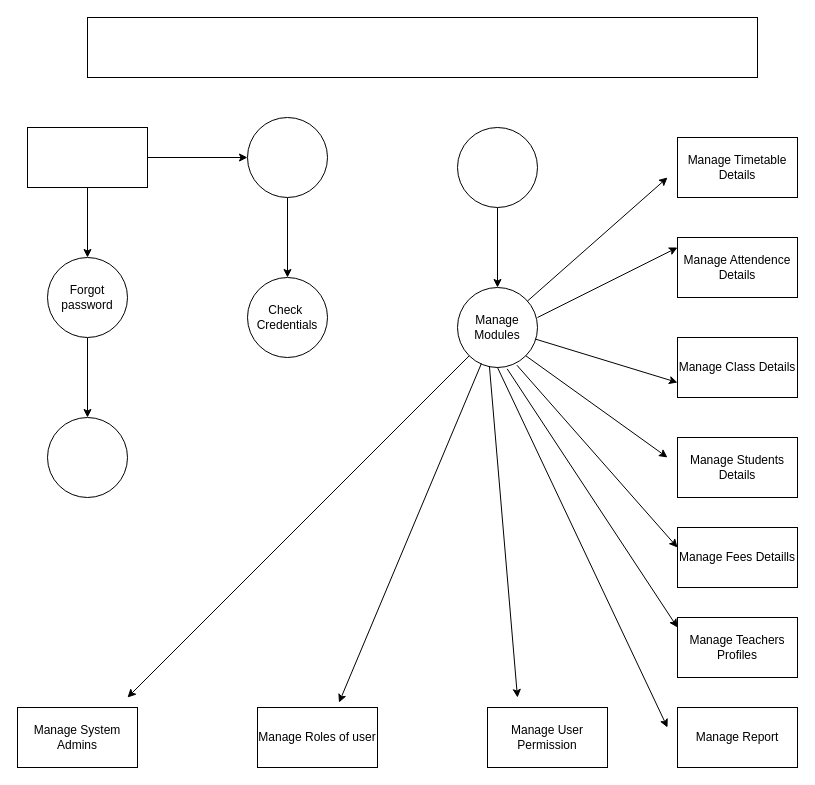
Image size: 815x785. Some labels were removed from this diagram. The centre of each missing label's shape, as x and y in pixels:
"Admin" goes at point 87,157.
"Check Roles of Access" goes at point 497,167.
"Login to System" goes at point 287,157.
"Send Email to User" goes at point 87,457.
"Student Information System" goes at point 422,47.
